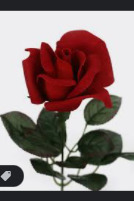RedRose: (14, 30, 118, 115)
